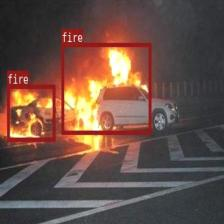fire: (61, 43, 151, 134), (7, 84, 55, 140)
